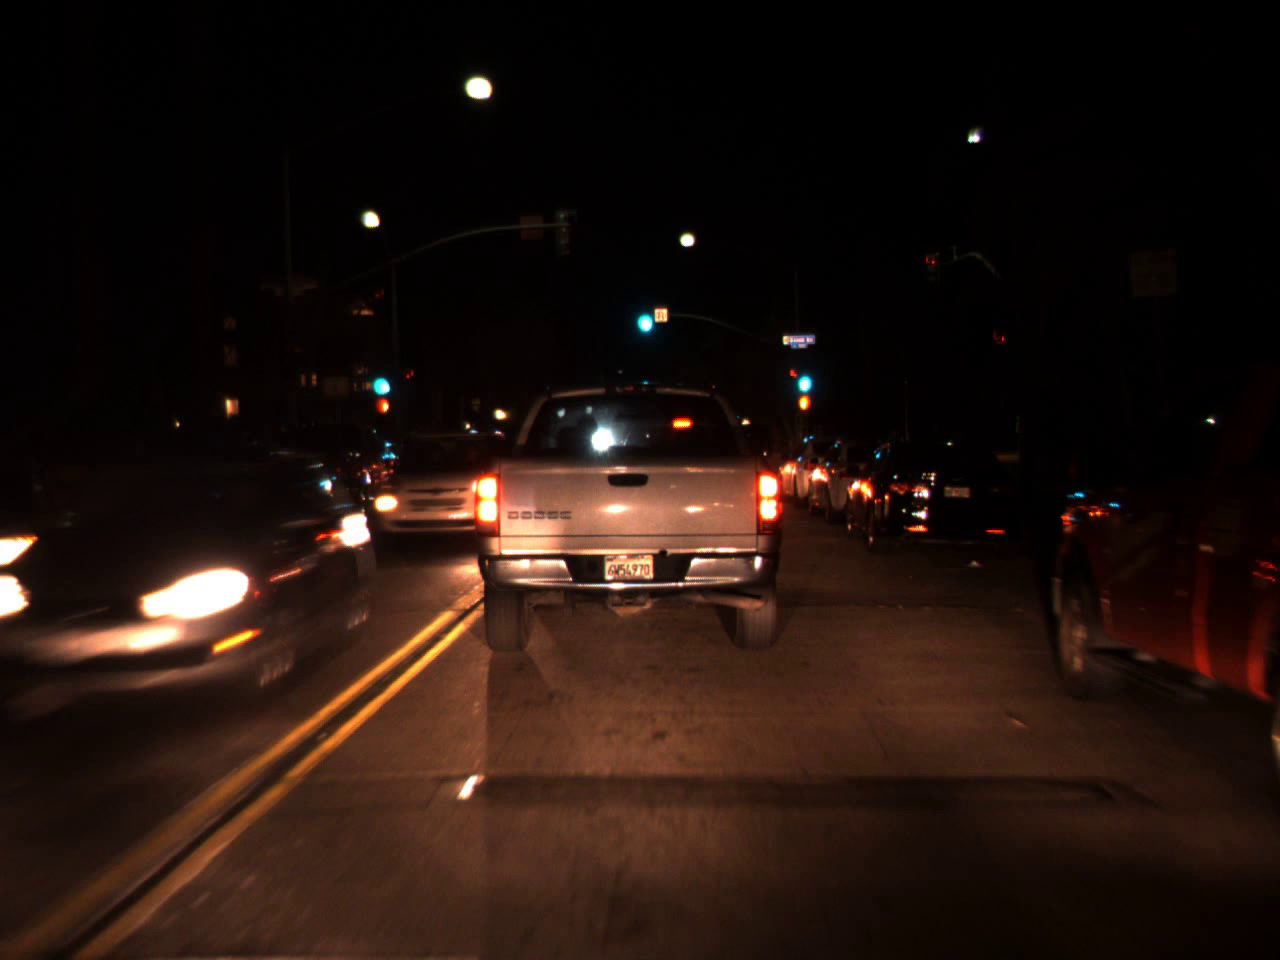go: (631, 293, 656, 338), (368, 356, 391, 401), (791, 354, 814, 399)
